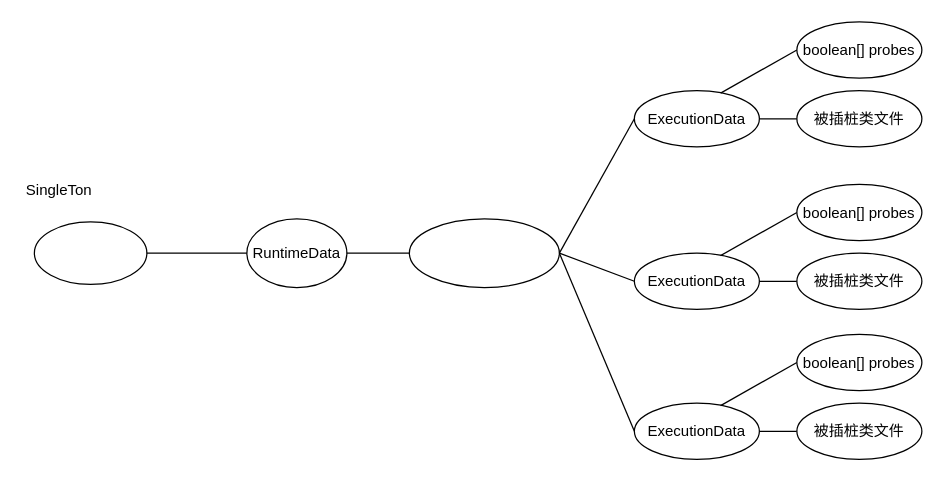
Image size: 944x481. Some labels were removed from this diagram. Here are the shapes that lost their labels. From the top down, the centre of each, then its label:
At (x=90, y=252): "Agent".
At (x=483, y=253): "ExecutionDataStore".
